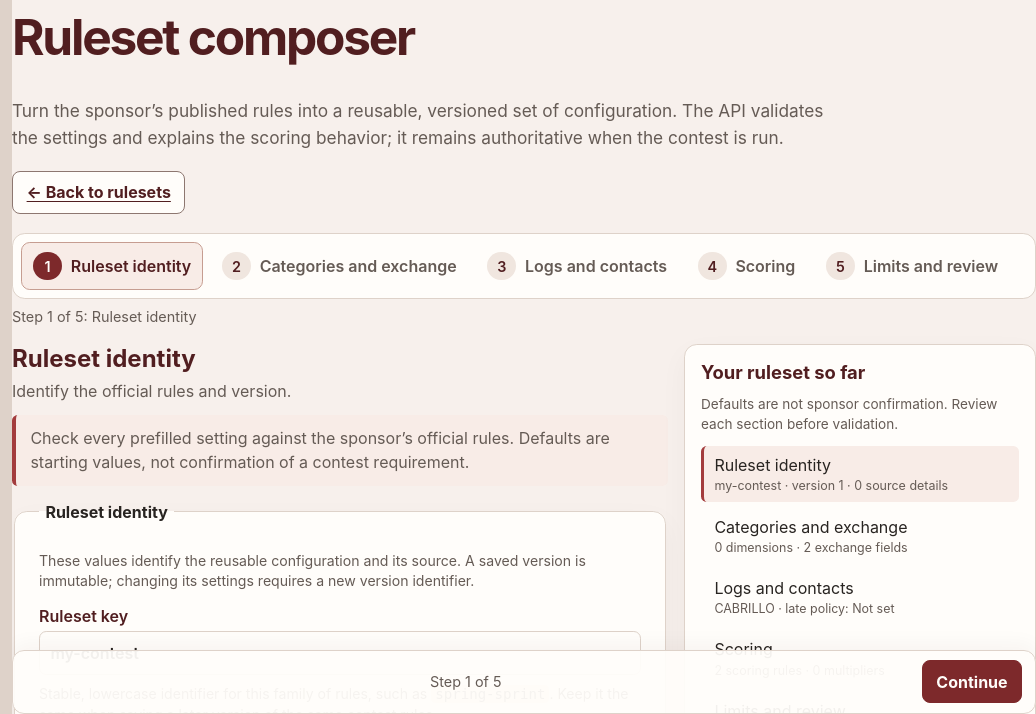
Test: RulesetComposerView › shows API validation errors without replacing the draft with a success result
Click the button "5 Limits and review": [912, 266] box [814, 242, 1010, 290]
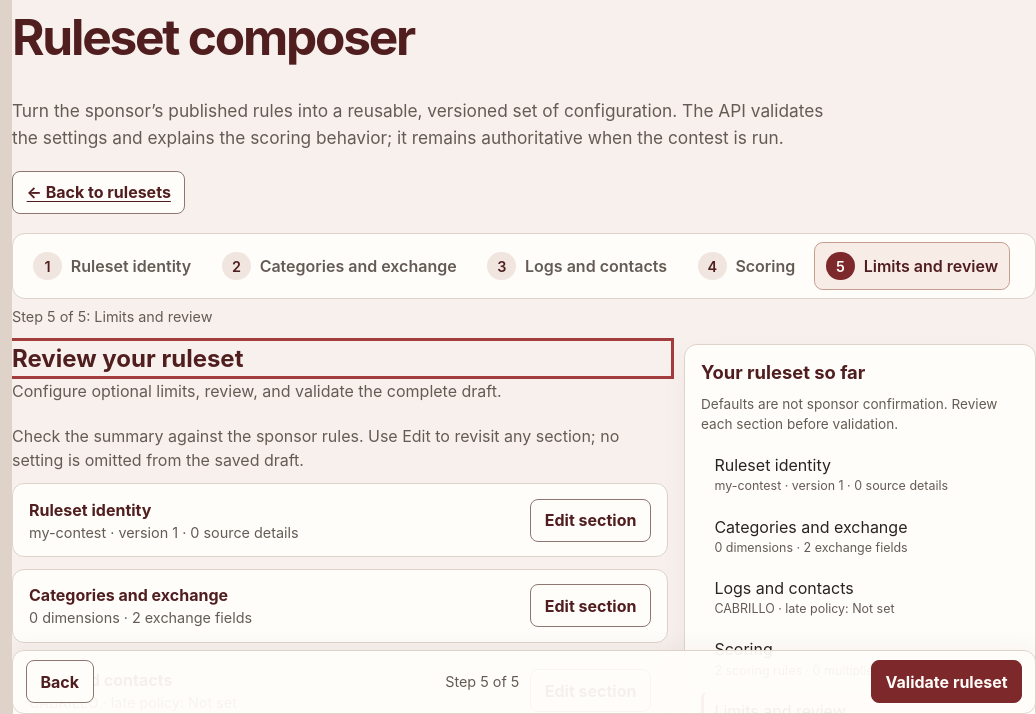
Click the button "Validate ruleset": [947, 682] box [871, 660, 1022, 704]
(page scrolled)
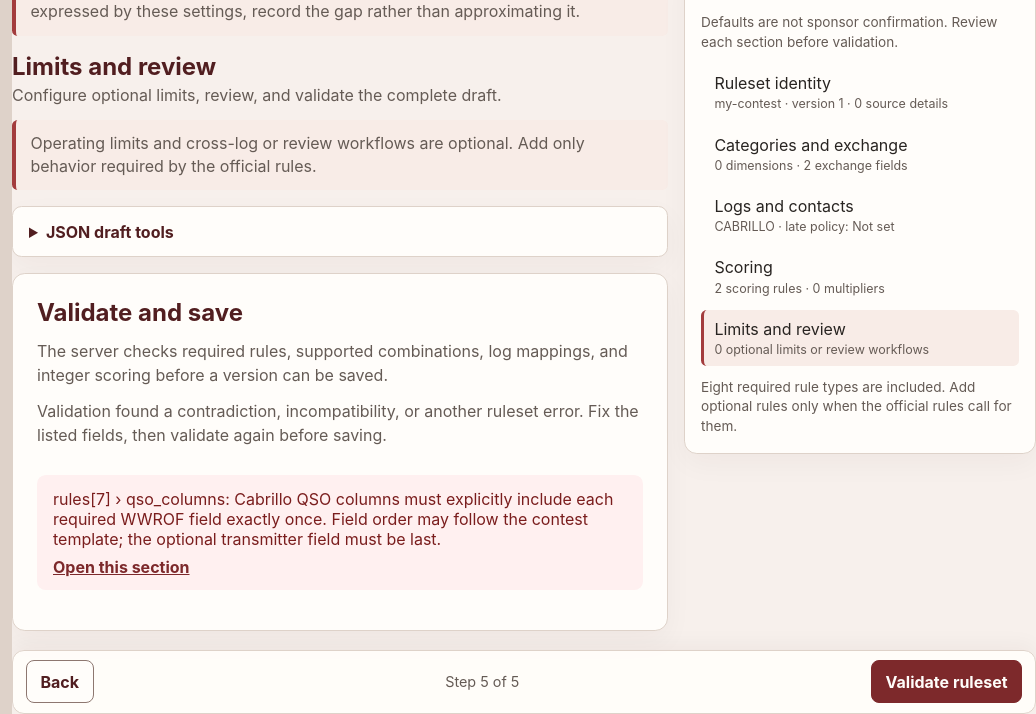
expect the list with class "error-list" shows "WWROF field": met, box [53, 489, 613, 549]
expect the list with class "error-list" shows "qso_columns": met, box [53, 489, 613, 549]
expect the message shows "contradiction": met, box [37, 401, 639, 445]
Click the button "Open this section": [121, 567] box [53, 557, 190, 577]
(page scrolled)
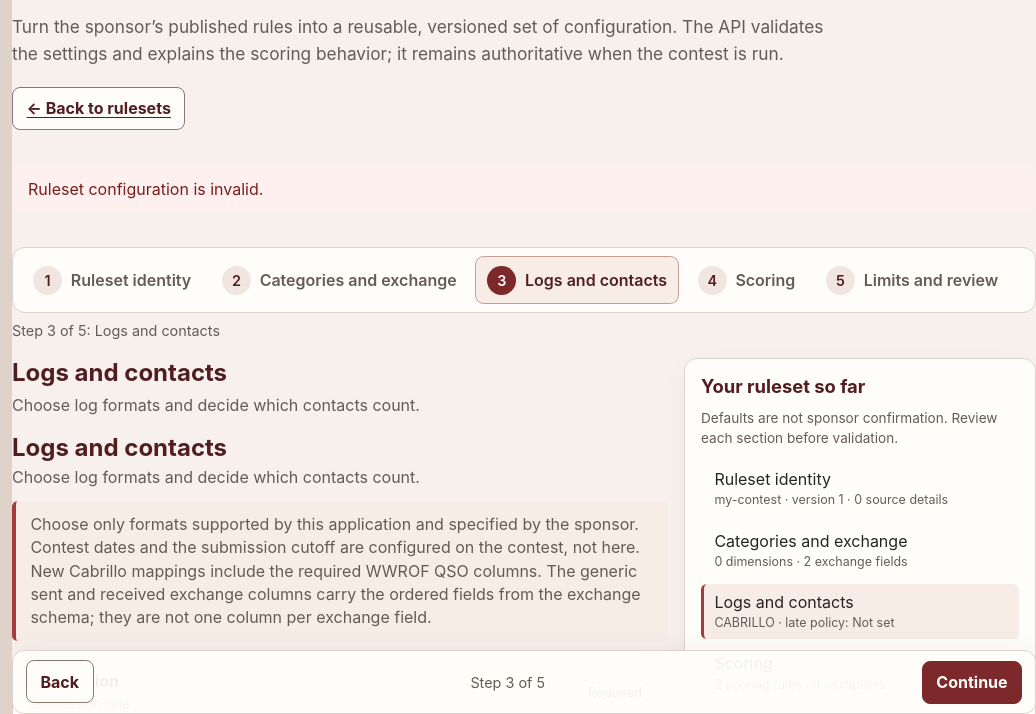
expect the message with class "step-status" shows "Step 3 of 5": met, box [12, 322, 220, 339]
